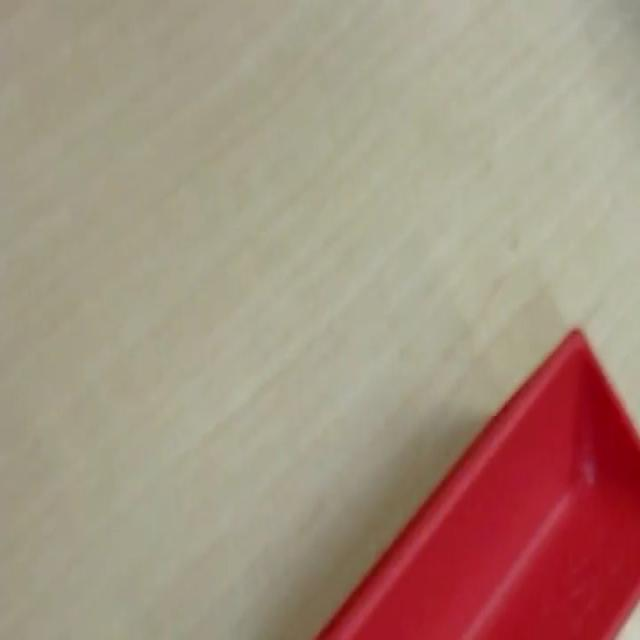red_block: (313, 324, 638, 637)
